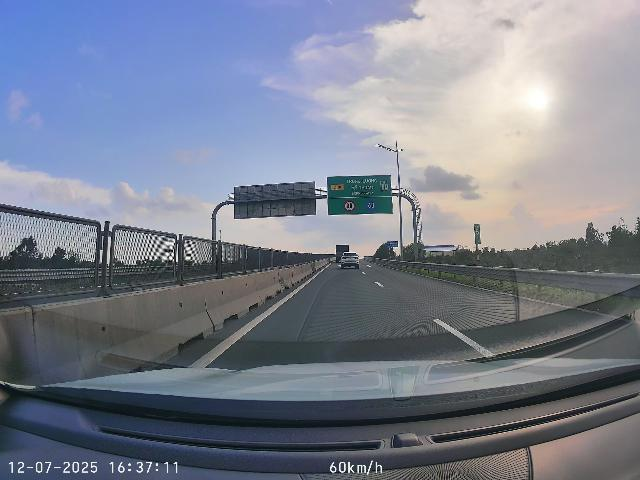127-toc-do-toi-da-90: (343, 200, 356, 212)
306-toc-do-toi-thieu-60: (365, 199, 377, 211)
437-bat-dau-duong-cao-toc: (380, 181, 388, 192)
